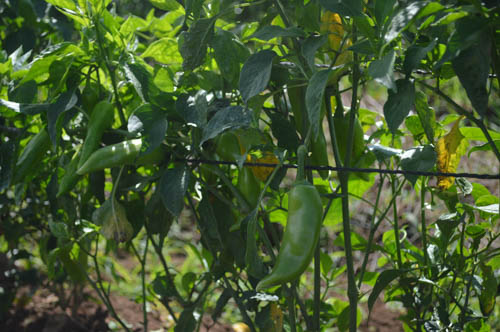ChiliPepper: (250, 183, 321, 296), (77, 139, 173, 172), (294, 82, 328, 172), (335, 114, 371, 180), (81, 101, 112, 167), (14, 132, 49, 182), (55, 160, 89, 200), (235, 165, 261, 202)
